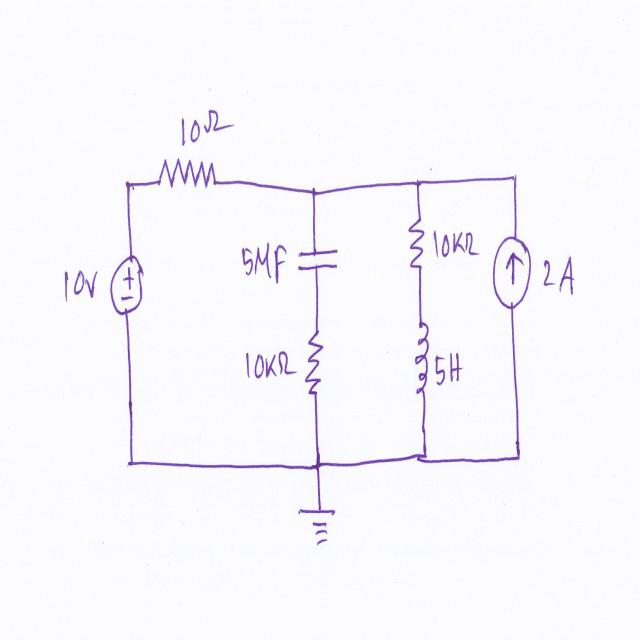capacitor: (294, 243, 342, 281)
current_source: (490, 228, 535, 318)
ground: (296, 494, 340, 553)
inductor: (412, 317, 432, 403)
resistor: (153, 153, 221, 195), (301, 328, 326, 407), (404, 212, 429, 278)
voltage_source: (108, 243, 145, 329)
